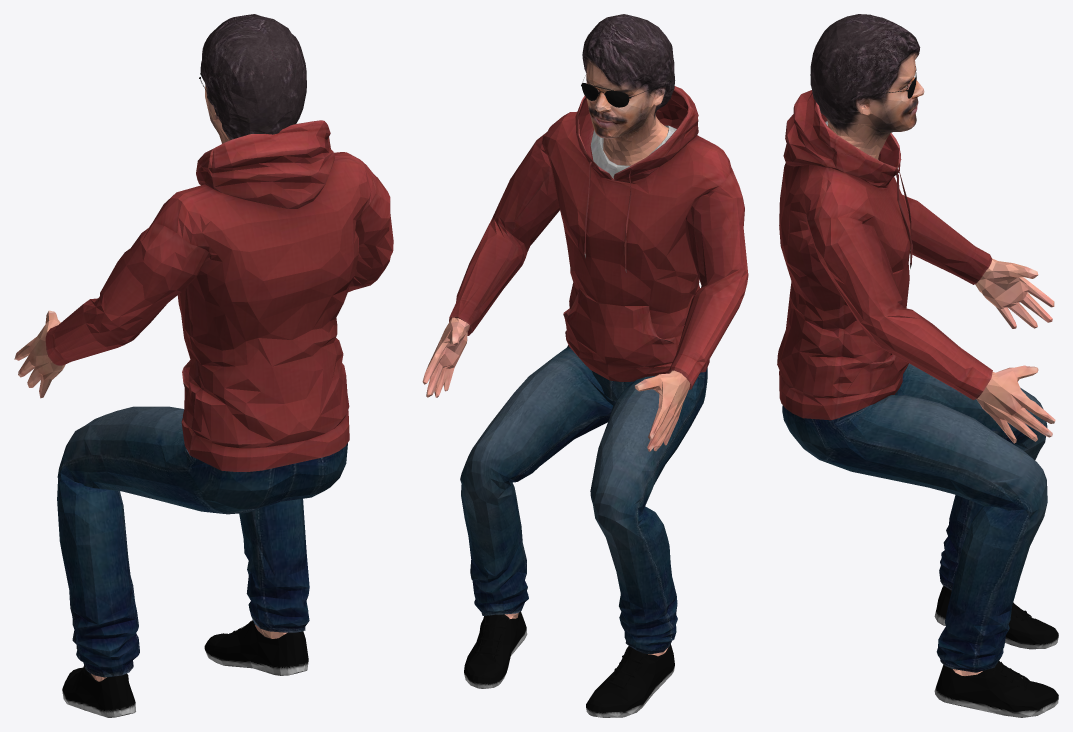
File: re350_rider.glb
3 renders of one model, left to right at view 1: azimuth 30°, elevation 25°; view 2: azimuth 150°, elevation 25°; view 3: azimuth 270°, elevation 25°, orthographic. The views are drawn at different scales.
Bounding box in the file's own units: 0.6705 × 1.56 × 0.6077.
Materials: 10 (9 with a texture image).
